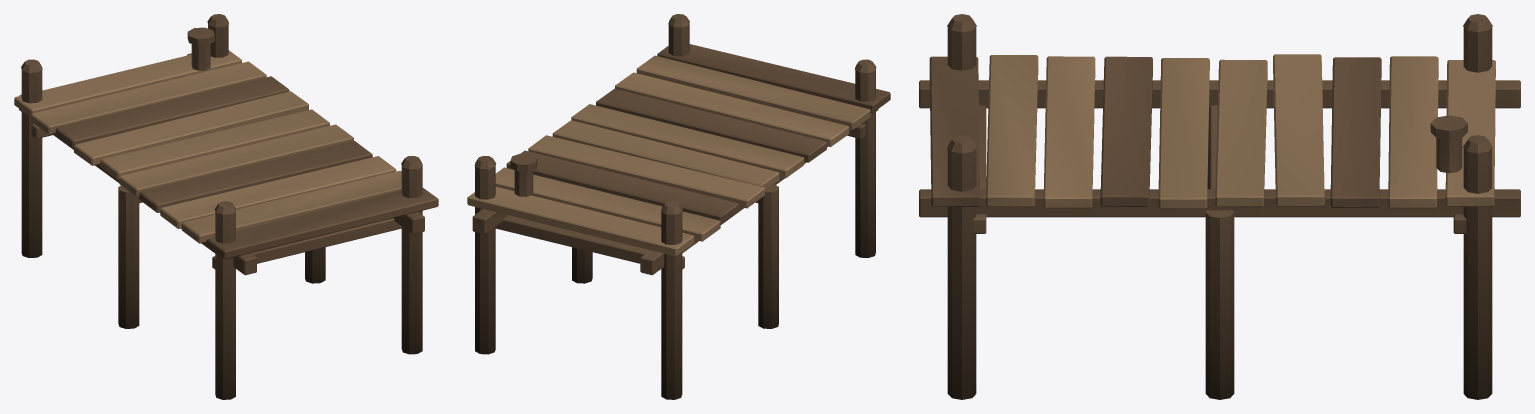
The model's file is Dock.glb.
The picture shows the model from 3 angles, left to right: view 1: azimuth 30°, elevation 25°; view 2: azimuth 150°, elevation 25°; view 3: azimuth 270°, elevation 25°; orthographic projection. The views are drawn at different scales.
Parts seen in each view (by area): view 1: Dock; view 2: Dock; view 3: Dock.
Boxes of the visible parts, bbox=[...] form: Dock: bbox=[14, 14, 438, 399]; Dock: bbox=[467, 14, 890, 399]; Dock: bbox=[919, 14, 1520, 399].
Bounding box in the file's own units: 2.36 × 1.96 × 4.2.
